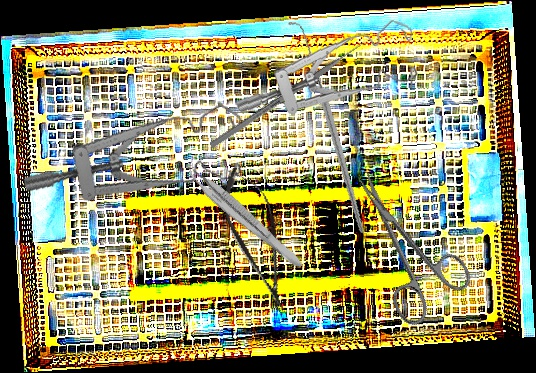Hook Surgical: (243, 20, 411, 235)
Iris Scissors: (328, 152, 480, 330)
Micro Scissor: (211, 160, 304, 318)
Pusher: (209, 36, 372, 149)
Speculum: (20, 68, 254, 233), (234, 9, 422, 126)
Tissue Forceps: (178, 159, 311, 271)
